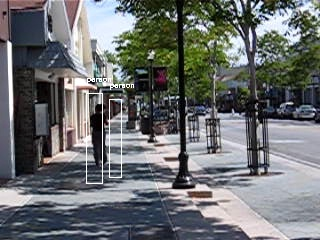person: (91, 104, 111, 168), (90, 104, 110, 168), (92, 104, 112, 168), (91, 103, 111, 167), (91, 105, 111, 169)
target_negative: (56, 79, 155, 234), (87, 148, 219, 235), (237, 75, 313, 130), (250, 116, 267, 231), (246, 202, 268, 232), (177, 69, 238, 74)
